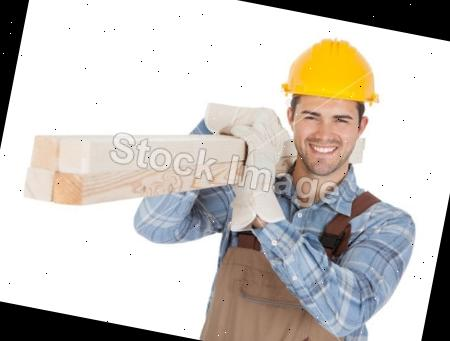helmet: (277, 27, 393, 114)
no_wear: (204, 167, 393, 341)
